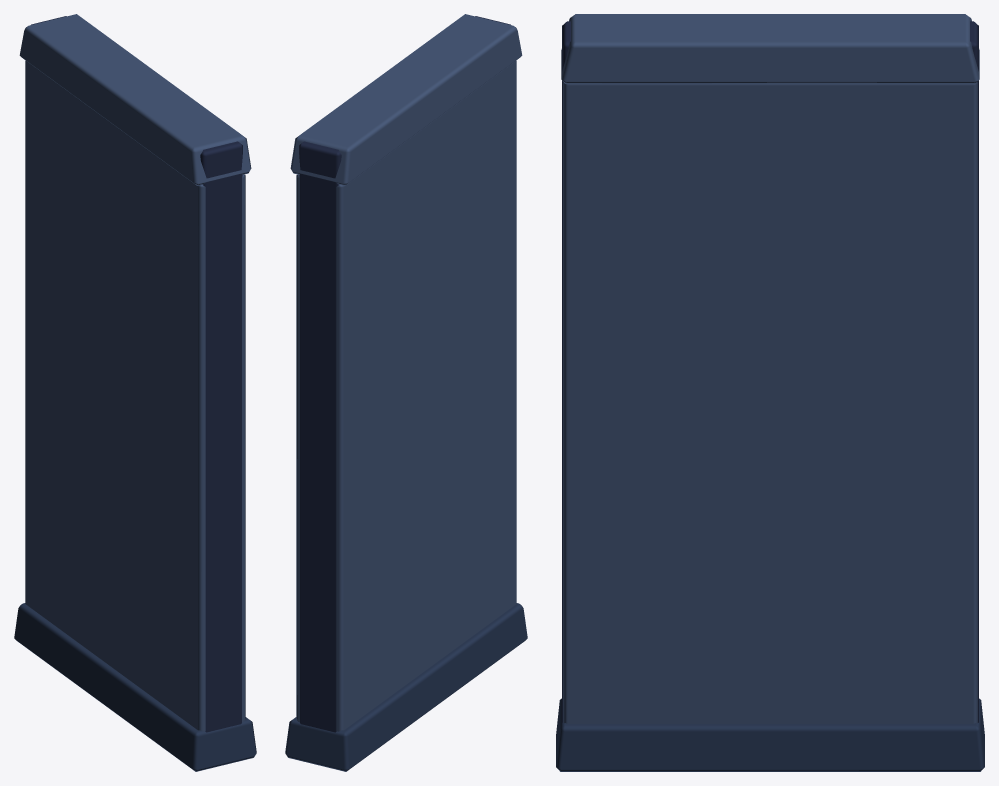
The model's file is wall_slate_34_420_220.glb.
The picture shows the model from 3 angles, left to right: view 1: azimuth 30°, elevation 25°; view 2: azimuth 150°, elevation 25°; view 3: azimuth 270°, elevation 25°; orthographic projection. The views are drawn at different scales.
Visible parts, largest first — view 1: wall_slate_34_420_220; view 2: wall_slate_34_420_220; view 3: wall_slate_34_420_220.
Boxes of the visible parts, <box> form: wall_slate_34_420_220: <box>14,14,256,771</box>; wall_slate_34_420_220: <box>285,14,527,771</box>; wall_slate_34_420_220: <box>556,14,984,771</box>.
Bounding box in the file's own units: 0.4582 × 4.2 × 2.24.
